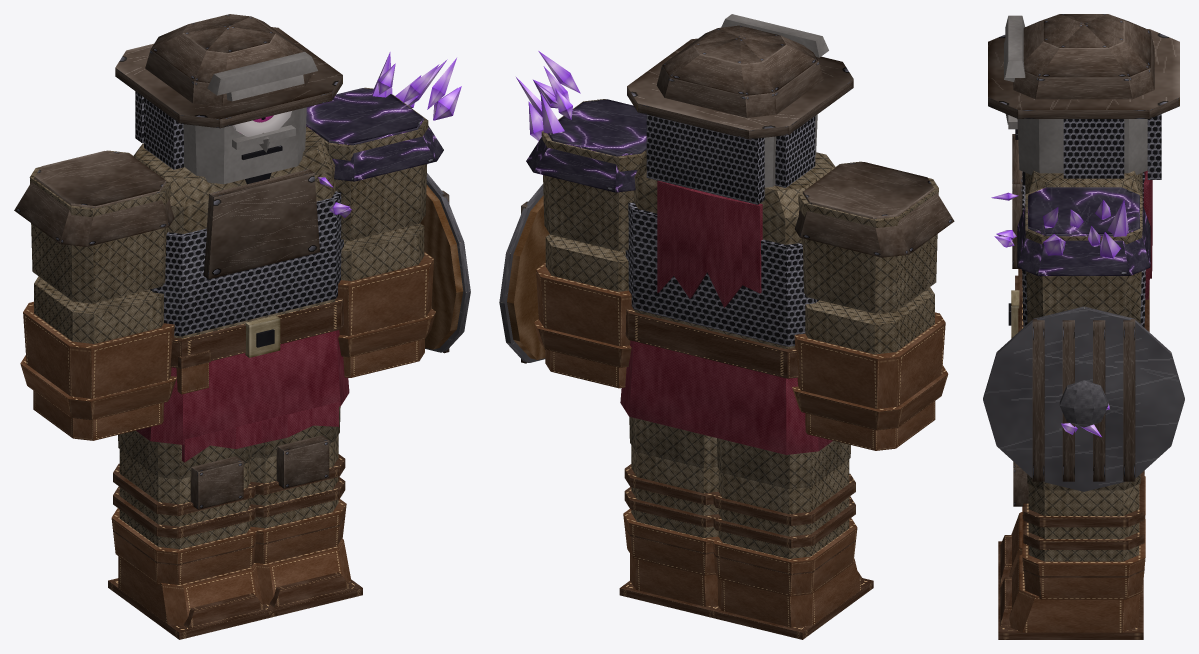
File: KnightApprenticeInfected.fbx
3 views of the same model, side by side, from view 1: azimuth 30°, elevation 25°; view 2: azimuth 150°, elevation 25°; view 3: azimuth 270°, elevation 25° (orthographic). The views are drawn at different scales.
Parts seen in each view (by area): view 1: UpperTorso_Armor, Head_Armor, LowerTorso_Armor, RightUpperArm_Armor, RightLowerLeg_Armor, LeftUpperArm_Armor, RightLowerArm_Armor, LeftLowerLeg_Armor, LeftLowerArm_Armor, RightFoot_Armor, RightHand_Armor, LeftLowerArm_Shield (+5 smaller); view 2: Head_Armor, UpperTorso_Armor, LowerTorso_Armor, RightUpperArm_Armor, RightLowerLeg_Armor, RightLowerArm_Armor, LeftUpperArm_Armor, LeftLowerLeg_Armor, LeftLowerArm_Armor, RightFoot_Armor, RightHand_Armor, LeftLowerArm_Shield (+5 smaller); view 3: LeftLowerArm_Shield, Head_Armor, LeftLowerLeg_Armor, LeftUpperArm_Armor, LeftFoot_Armor, UpperTorso_Armor, LeftUpperArm_Glow, RightFoot_Armor, LowerTorso_Armor, LeftUpperLeg_Armor, UpperTorso_Glow.
Boxes of the visible parts, x1=… form: UpperTorso_Armor: x1=133, y1=126, x2=343, y2=336; Head_Armor: x1=115, y1=14, x2=342, y2=184; LowerTorso_Armor: x1=136, y1=298, x2=349, y2=462; RightUpperArm_Armor: x1=14, y1=150, x2=174, y2=303; RightLowerLeg_Armor: x1=111, y1=449, x2=256, y2=584; LeftUpperArm_Armor: x1=306, y1=87, x2=443, y2=240; RightLowerArm_Armor: x1=23, y1=276, x2=174, y2=398; LeftLowerLeg_Armor: x1=249, y1=435, x2=346, y2=563; LeftLowerArm_Armor: x1=337, y1=223, x2=433, y2=335; RightFoot_Armor: x1=108, y1=556, x2=277, y2=639; RightHand_Armor: x1=20, y1=355, x2=176, y2=440; LeftLowerArm_Shield: x1=420, y1=173, x2=470, y2=353; Head_Armor: x1=627, y1=14, x2=853, y2=204; UpperTorso_Armor: x1=625, y1=150, x2=835, y2=346; LowerTorso_Armor: x1=620, y1=308, x2=832, y2=454; RightUpperArm_Armor: x1=795, y1=161, x2=954, y2=313; RightLowerLeg_Armor: x1=710, y1=459, x2=857, y2=596; RightLowerArm_Armor: x1=794, y1=287, x2=945, y2=408; LeftUpperArm_Armor: x1=526, y1=99, x2=646, y2=251; LeftLowerLeg_Armor: x1=623, y1=445, x2=720, y2=575; LeftLowerArm_Armor: x1=536, y1=234, x2=632, y2=346; RightFoot_Armor: x1=705, y1=558, x2=873, y2=639; RightHand_Armor: x1=792, y1=365, x2=948, y2=450; LeftLowerArm_Shield: x1=499, y1=184, x2=549, y2=363; LeftLowerArm_Shield: x1=983, y1=306, x2=1184, y2=491; Head_Armor: x1=988, y1=14, x2=1179, y2=179; LeftLowerLeg_Armor: x1=1013, y1=461, x2=1145, y2=599; LeftUpperArm_Armor: x1=1017, y1=187, x2=1150, y2=323; LeftFoot_Armor: x1=998, y1=554, x2=1143, y2=639; UpperTorso_Armor: x1=1012, y1=134, x2=1152, y2=327; LeftUpperArm_Glow: x1=1043, y1=199, x2=1128, y2=258; RightFoot_Armor: x1=998, y1=512, x2=1143, y2=583; LowerTorso_Armor: x1=1008, y1=269, x2=1149, y2=338; LeftUpperLeg_Armor: x1=1027, y1=474, x2=1140, y2=490; UpperTorso_Glow: x1=991, y1=192, x2=1018, y2=247.
Bounding box in the file's own units: 483 × 624 × 200.
2 materials, 2 textured.
